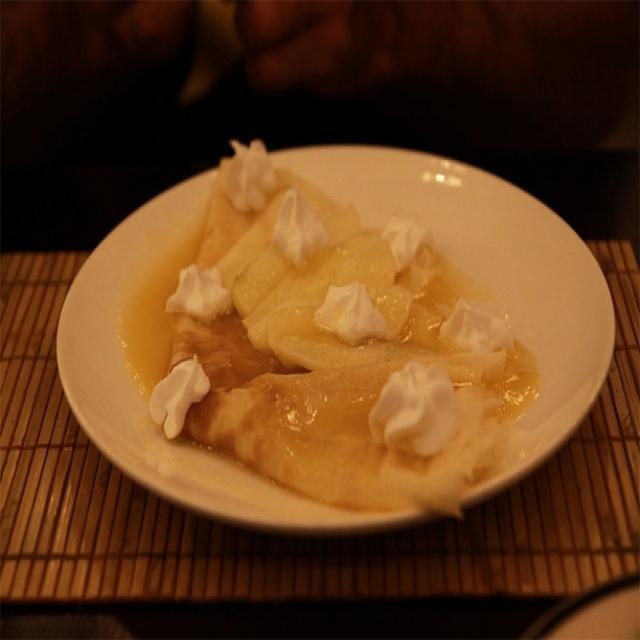鸡蛋料理: (209, 179, 430, 507)
